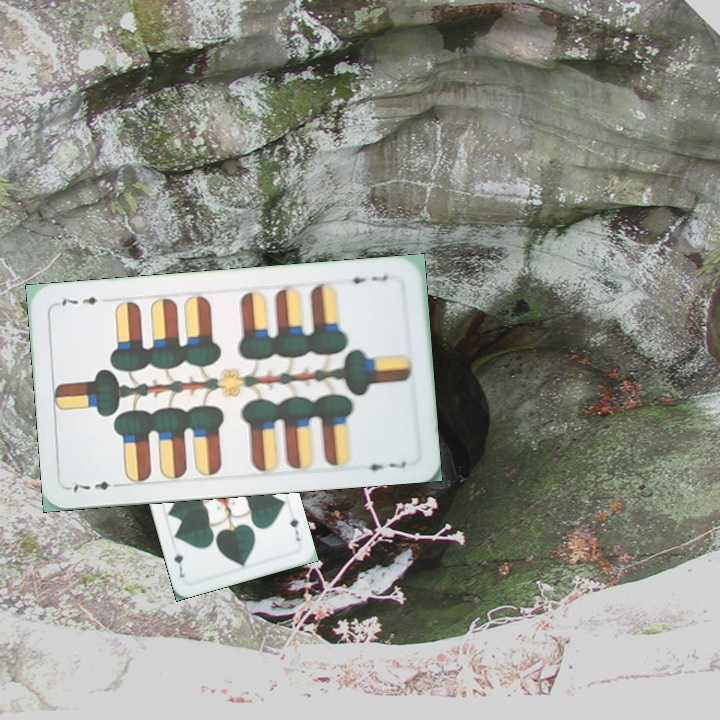E7: (66, 477, 125, 495), (341, 270, 390, 287)
G7: (286, 514, 303, 544)
